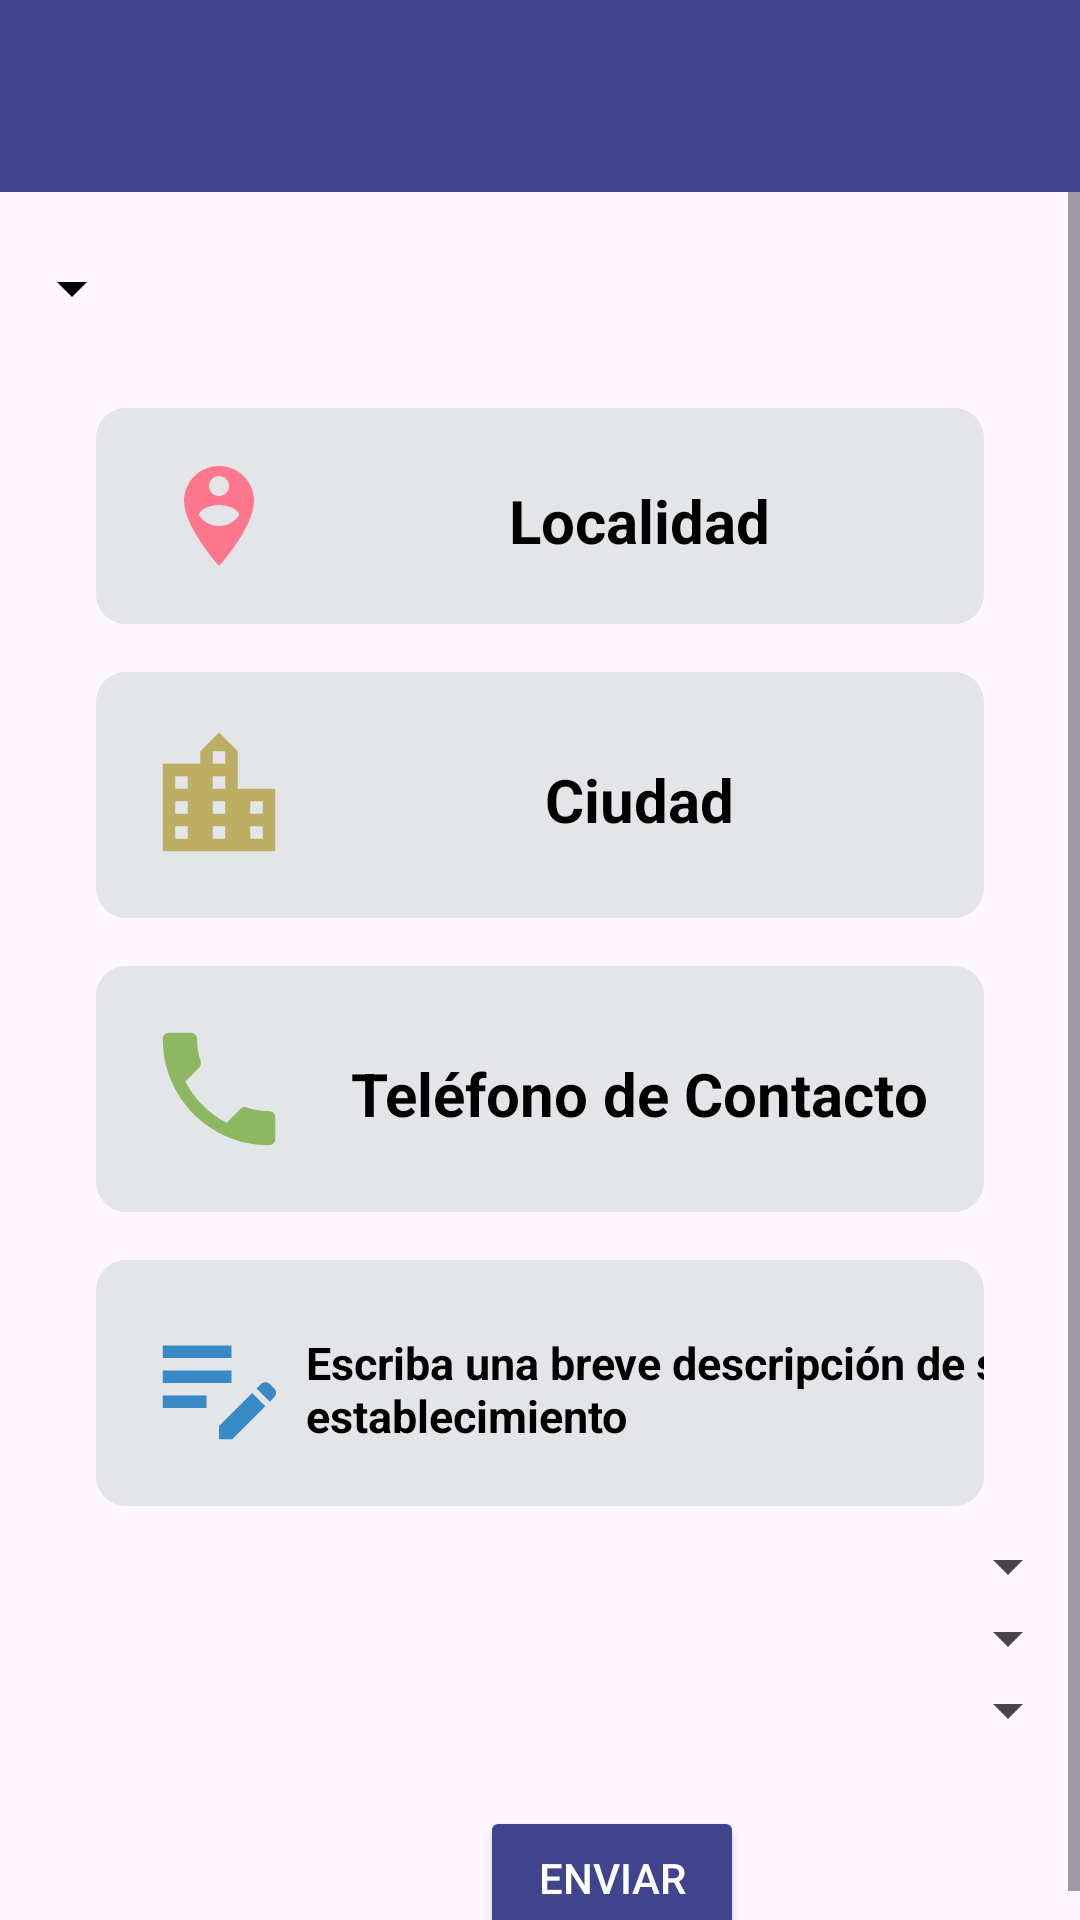

Point at icon controls on the screen. Image size 1080 × 1920, points as point (x, y).
city: point (219, 792)
edit note: point (219, 1392)
local phone: point (219, 1089)
person pin circle: point (219, 516)
